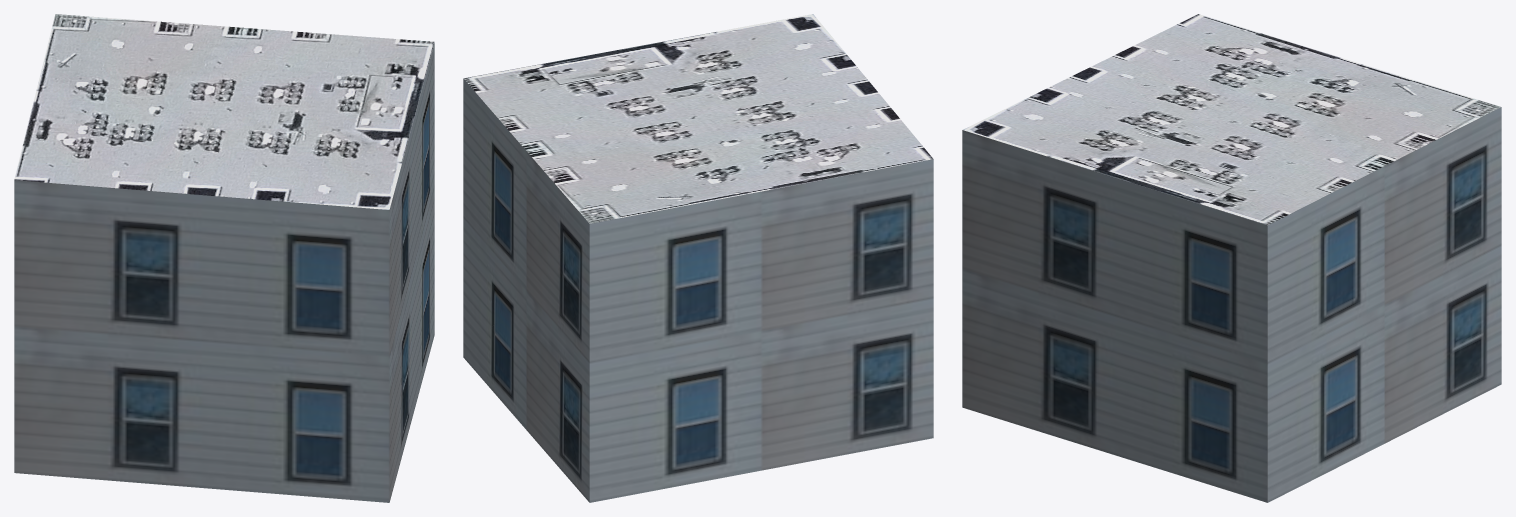
The model's file is ResTex__4889.fbx.
3 renders of one model, left to right at view 1: azimuth 30°, elevation 25°; view 2: azimuth 150°, elevation 25°; view 3: azimuth 270°, elevation 25°, orthographic. The views are drawn at different scales.
Visible parts, largest first — view 1: CityEngineMaterial_18_m, CityEngineMaterial_4_m; view 2: CityEngineMaterial_18_m, CityEngineMaterial_4_m; view 3: CityEngineMaterial_18_m, CityEngineMaterial_4_m.
Part boxes in pixels (x1=…): CityEngineMaterial_18_m: x1=14, y1=43, x2=434, y2=502; CityEngineMaterial_4_m: x1=14, y1=14, x2=434, y2=209; CityEngineMaterial_18_m: x1=463, y1=79, x2=933, y2=502; CityEngineMaterial_4_m: x1=463, y1=14, x2=933, y2=223; CityEngineMaterial_18_m: x1=962, y1=107, x2=1501, y2=502; CityEngineMaterial_4_m: x1=963, y1=14, x2=1500, y2=225.
Size of the model in its own units: 9.8 by 6 by 10.56.
2 materials, 2 textured.
